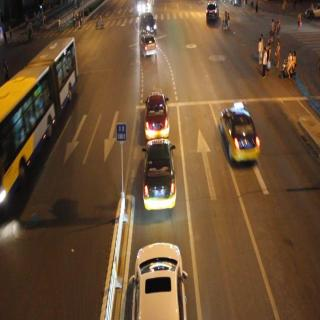BigCar: (2, 32, 86, 214)
Car: (132, 240, 194, 320), (137, 138, 178, 209), (221, 98, 260, 166), (142, 86, 174, 140), (138, 32, 162, 62), (137, 0, 156, 36), (206, 0, 222, 24)
